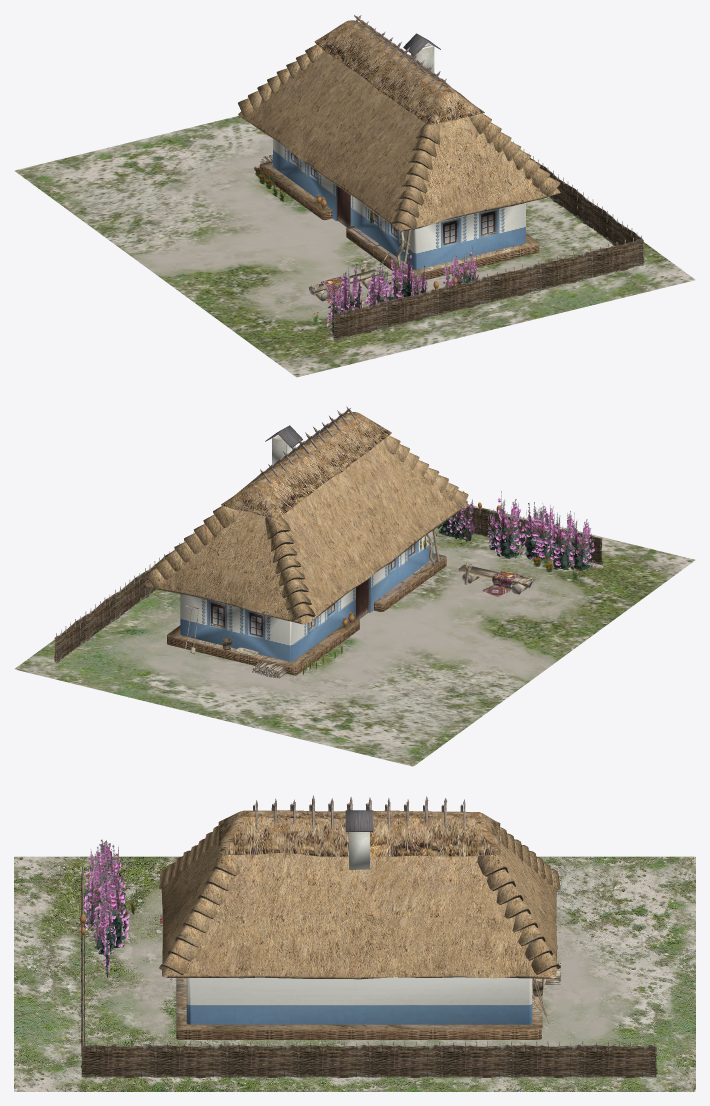
Rendered from house_khata_game.glb.
The picture shows the model from 3 angles, top to bottom: view 1: azimuth 30°, elevation 25°; view 2: azimuth 150°, elevation 25°; view 3: azimuth 270°, elevation 25°; orthographic projection. The views are drawn at different scales.
Visible parts, largest first — view 1: Object_4; view 2: Object_4; view 3: Object_4.
Part boxes in pixels (x1,y1,x2,y2): Object_4: (14,15,695,377); Object_4: (14,406,695,766); Object_4: (14,795,695,1091).
Size of the model in its own units: 9.94 by 4.14 by 12.19.
Materials: 7 (7 with a texture image).
